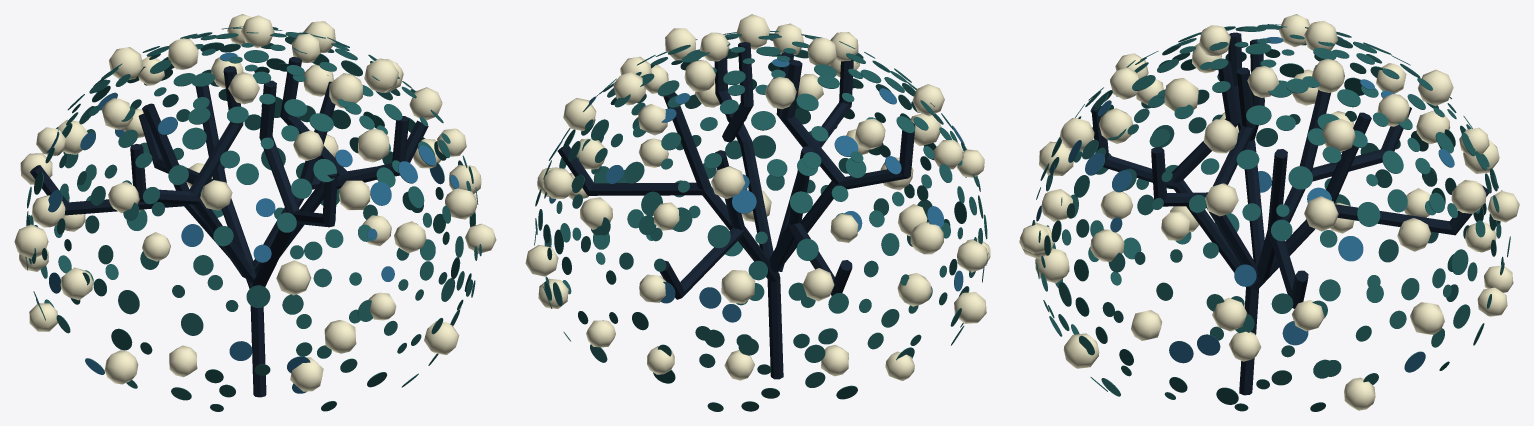
File: leuchtkugelpflanze.FBX
3 views of the same model, side by side, from view 1: azimuth 30°, elevation 25°; view 2: azimuth 150°, elevation 25°; view 3: azimuth 270°, elevation 25° (orthographic). The views are drawn at different scales.
Visible parts, largest first — view 1: blaettchen_246, leuchtkugel_016, leuchtpflanze_stiel; view 2: blaettchen_246, leuchtkugel_016, leuchtpflanze_stiel; view 3: blaettchen_246, leuchtkugel_016, leuchtpflanze_stiel.
Boxes of the visible parts, bbox=[...] form: blaettchen_246: bbox=[25, 26, 481, 411]; leuchtkugel_016: bbox=[14, 14, 496, 391]; leuchtpflanze_stiel: bbox=[30, 57, 428, 397]; blaettchen_246: bbox=[534, 31, 988, 411]; leuchtkugel_016: bbox=[525, 14, 990, 380]; leuchtpflanze_stiel: bbox=[557, 42, 915, 379]; blaettchen_246: bbox=[1032, 24, 1510, 411]; leuchtkugel_016: bbox=[1019, 14, 1519, 410]; leuchtpflanze_stiel: bbox=[1091, 32, 1489, 395].
Size of the model in its own units: 0.7286 by 0.5644 by 0.7261.
